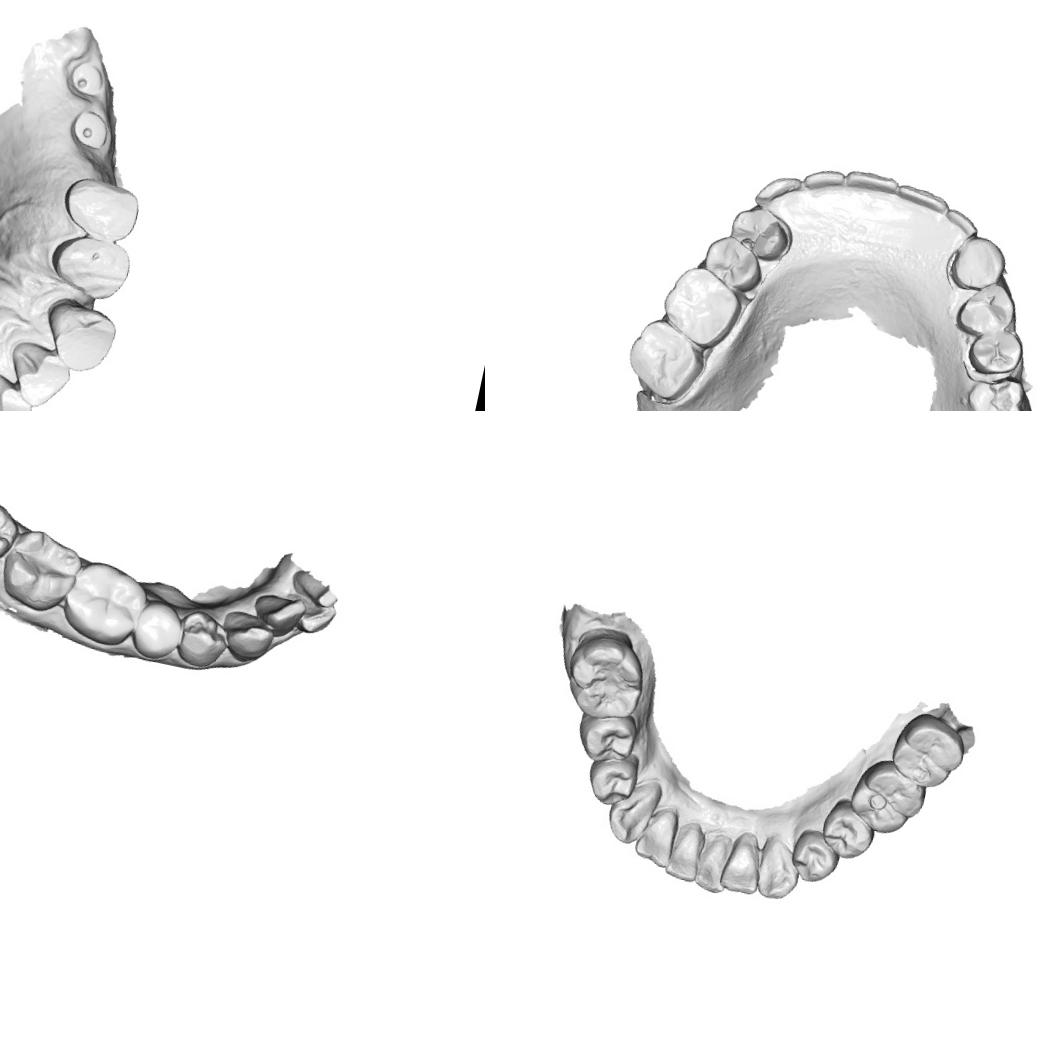canine: (38, 295, 123, 380), (603, 773, 664, 849), (946, 232, 1012, 297), (752, 834, 807, 904), (216, 607, 278, 668), (750, 168, 805, 218)
implant: (68, 106, 115, 156), (65, 58, 111, 100)
incisor: (2, 336, 76, 411), (716, 827, 768, 898), (630, 801, 682, 870), (248, 588, 308, 642), (662, 817, 708, 883), (692, 829, 734, 895), (892, 181, 952, 225), (282, 592, 339, 638), (841, 164, 901, 207), (0, 363, 42, 411), (937, 206, 982, 250), (800, 162, 848, 200)
molar: (559, 622, 654, 727), (56, 556, 154, 652), (654, 260, 748, 355), (620, 312, 712, 408), (0, 523, 88, 618), (844, 754, 932, 841), (886, 708, 971, 795), (959, 368, 1032, 411), (0, 492, 24, 576)
premolar: (43, 229, 139, 306), (56, 170, 144, 249), (952, 276, 1020, 344), (572, 704, 641, 770), (698, 231, 768, 296), (725, 202, 796, 265), (816, 796, 880, 864), (127, 596, 188, 664), (963, 322, 1028, 382), (174, 606, 233, 672), (582, 746, 642, 810), (787, 826, 844, 888)
